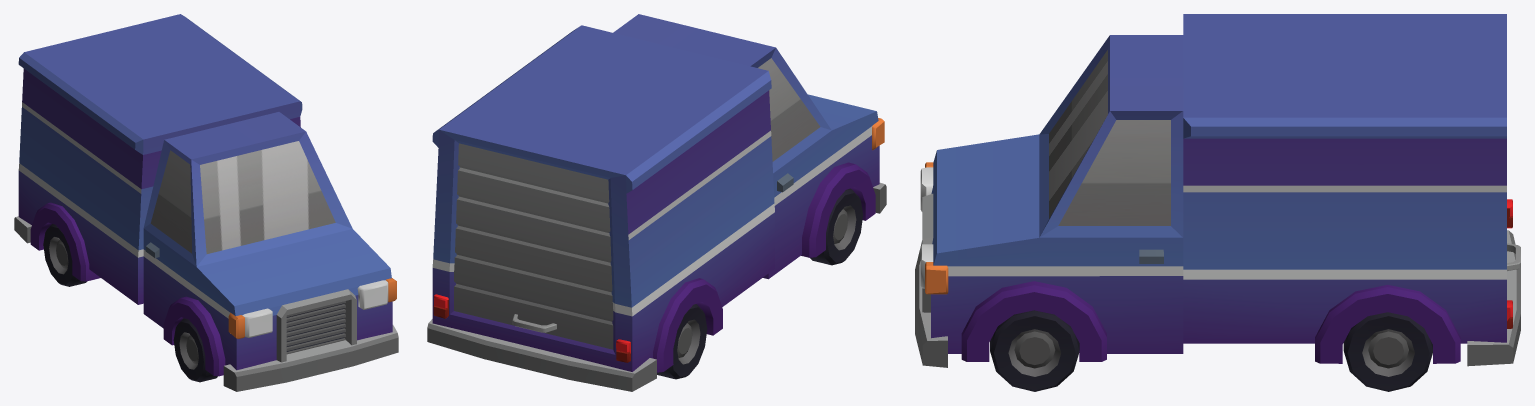
The model's file is PostCar_4.glb.
3 renders of one model, left to right at view 1: azimuth 30°, elevation 25°; view 2: azimuth 150°, elevation 25°; view 3: azimuth 270°, elevation 25°, orthographic. The views are drawn at different scales.
Visible parts, largest first — view 1: PostCar_4, Wheel_FR, Wheel_BR; view 2: PostCar_4, Wheel_FR, Wheel_BR; view 3: PostCar_4, Wheel_FL, Wheel_BL.
Boxes of the visible parts, <box> form: PostCar_4: <box>14,14,398,391</box>; Wheel_FR: <box>173,318,217,382</box>; Wheel_BR: <box>43,224,86,286</box>; PostCar_4: <box>427,14,886,391</box>; Wheel_FR: <box>810,188,863,265</box>; Wheel_BR: <box>657,304,707,379</box>; PostCar_4: <box>915,14,1520,367</box>; Wheel_FL: <box>990,310,1079,391</box>; Wheel_BL: <box>1343,312,1432,391</box>.
Size of the model in its own units: 1.18 by 1.24 by 2.51.
5 materials, 5 textured.
